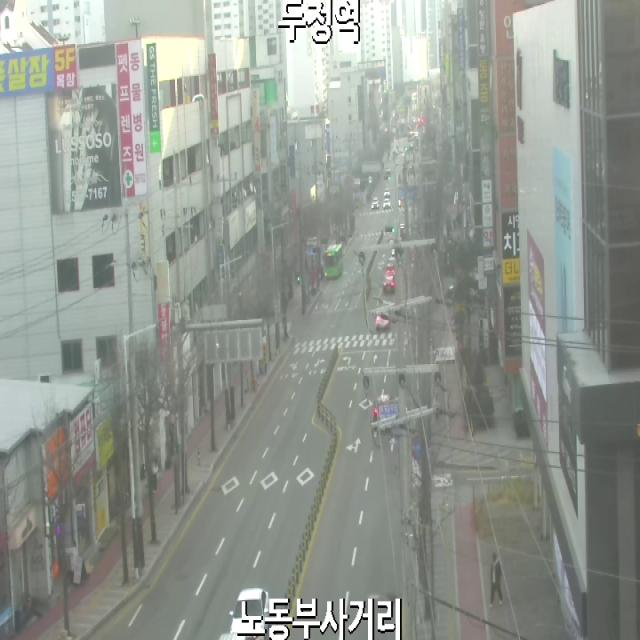Bus: (322, 244, 342, 278)
Car: (230, 588, 269, 633), (383, 275, 396, 294), (219, 634, 260, 640), (375, 314, 390, 330), (386, 262, 396, 276), (371, 197, 379, 209), (383, 198, 391, 208), (384, 188, 390, 197)
